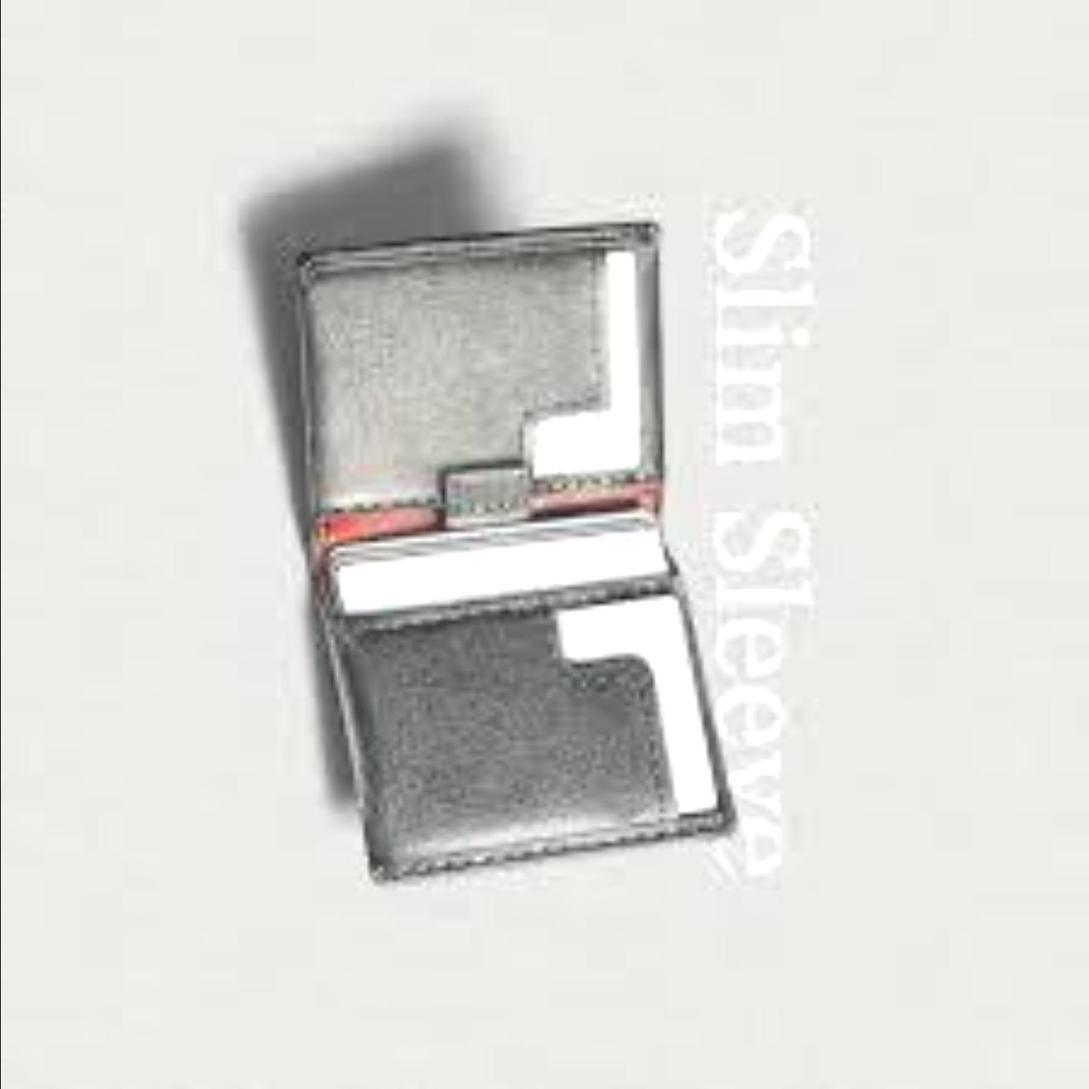wallet: (254, 206, 738, 970)
